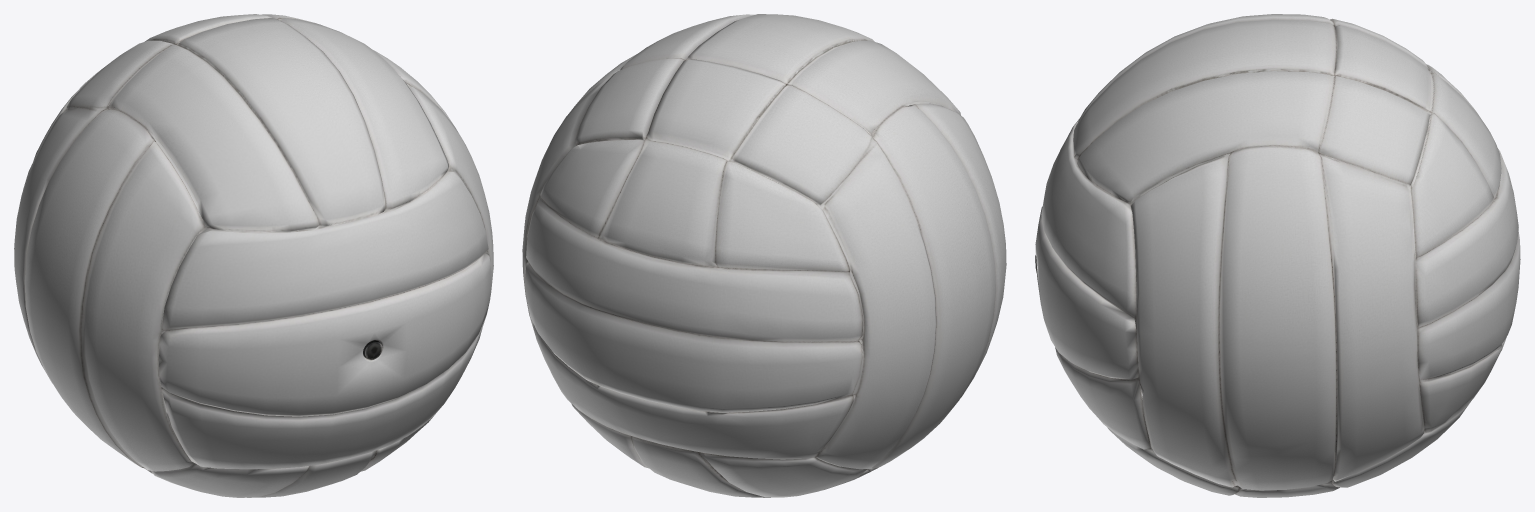
File: volleyball 3d model (1).glb
3 views of the same model, side by side, from view 1: azimuth 30°, elevation 25°; view 2: azimuth 150°, elevation 25°; view 3: azimuth 270°, elevation 25° (orthographic).
Parts seen in each view (by area): view 1: tripo_node_ba05cf05-a138-4f44-942e-34c2f6cb8655; view 2: tripo_node_ba05cf05-a138-4f44-942e-34c2f6cb8655; view 3: tripo_node_ba05cf05-a138-4f44-942e-34c2f6cb8655.
Part boxes in pixels (bbox=[...]): tripo_node_ba05cf05-a138-4f44-942e-34c2f6cb8655: bbox=[14, 14, 493, 497]; tripo_node_ba05cf05-a138-4f44-942e-34c2f6cb8655: bbox=[522, 14, 1006, 497]; tripo_node_ba05cf05-a138-4f44-942e-34c2f6cb8655: bbox=[1035, 14, 1520, 497].
Size of the model in its own units: 0.9995 by 0.9995 by 0.9995.
Materials: 1 (1 with a texture image).
